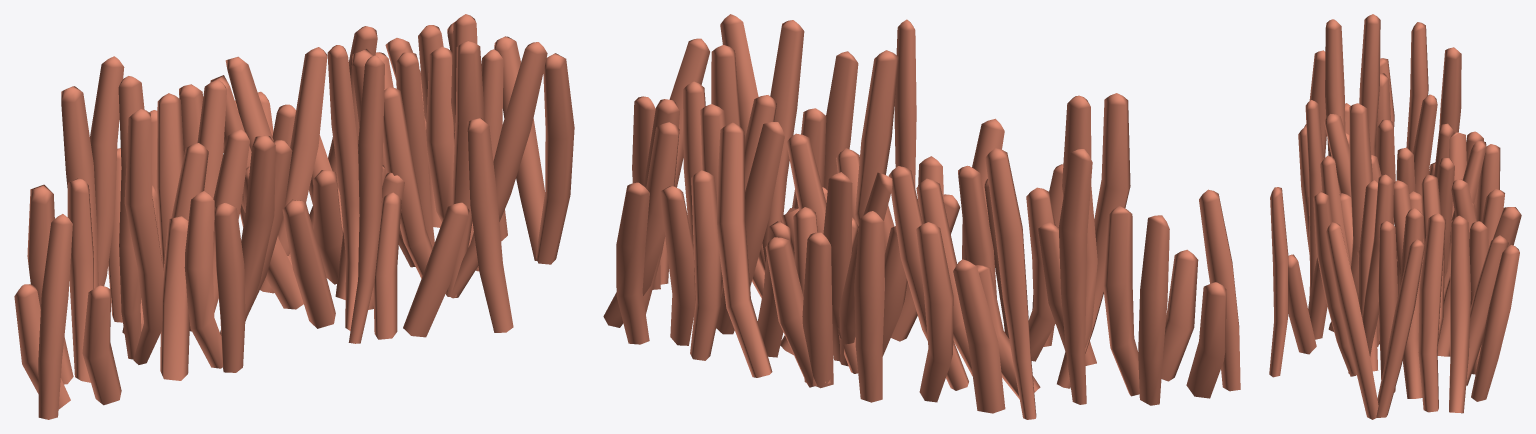
Rendered from coral_anemone_A_dense.fbx.
The picture shows the model from 3 angles, left to right: view 1: azimuth 30°, elevation 25°; view 2: azimuth 150°, elevation 25°; view 3: azimuth 270°, elevation 25°; orthographic projection. The views are drawn at different scales.
Parts seen in each view (by area): view 1: coral_anemone_A_dense; view 2: coral_anemone_A_dense; view 3: coral_anemone_A_dense.
Part boxes in pixels (x1,y1,x2,y2): coral_anemone_A_dense: [14, 14, 574, 419]; coral_anemone_A_dense: [603, 14, 1240, 419]; coral_anemone_A_dense: [1269, 14, 1521, 419].
Bounding box in the file's own units: 108 × 53.92 × 51.25.
